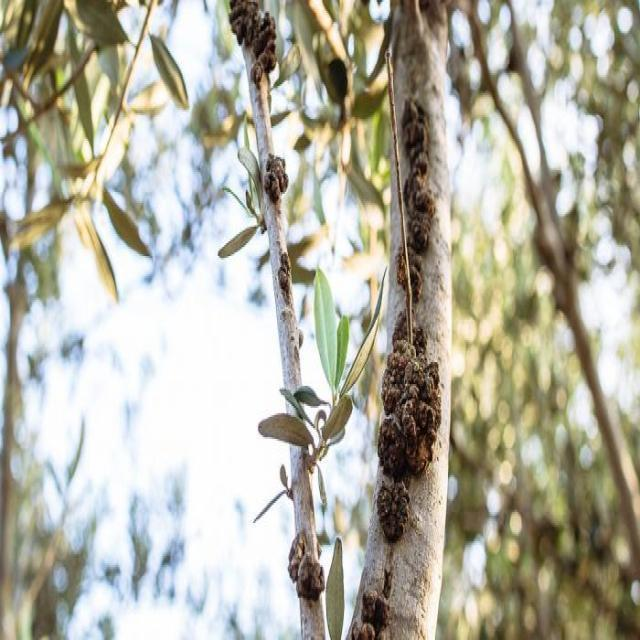Tuberculosis: (376, 312, 441, 540), (402, 98, 434, 302), (230, 0, 278, 92), (348, 564, 386, 638), (288, 532, 325, 604), (264, 156, 290, 204), (277, 248, 291, 298), (398, 254, 408, 291)
